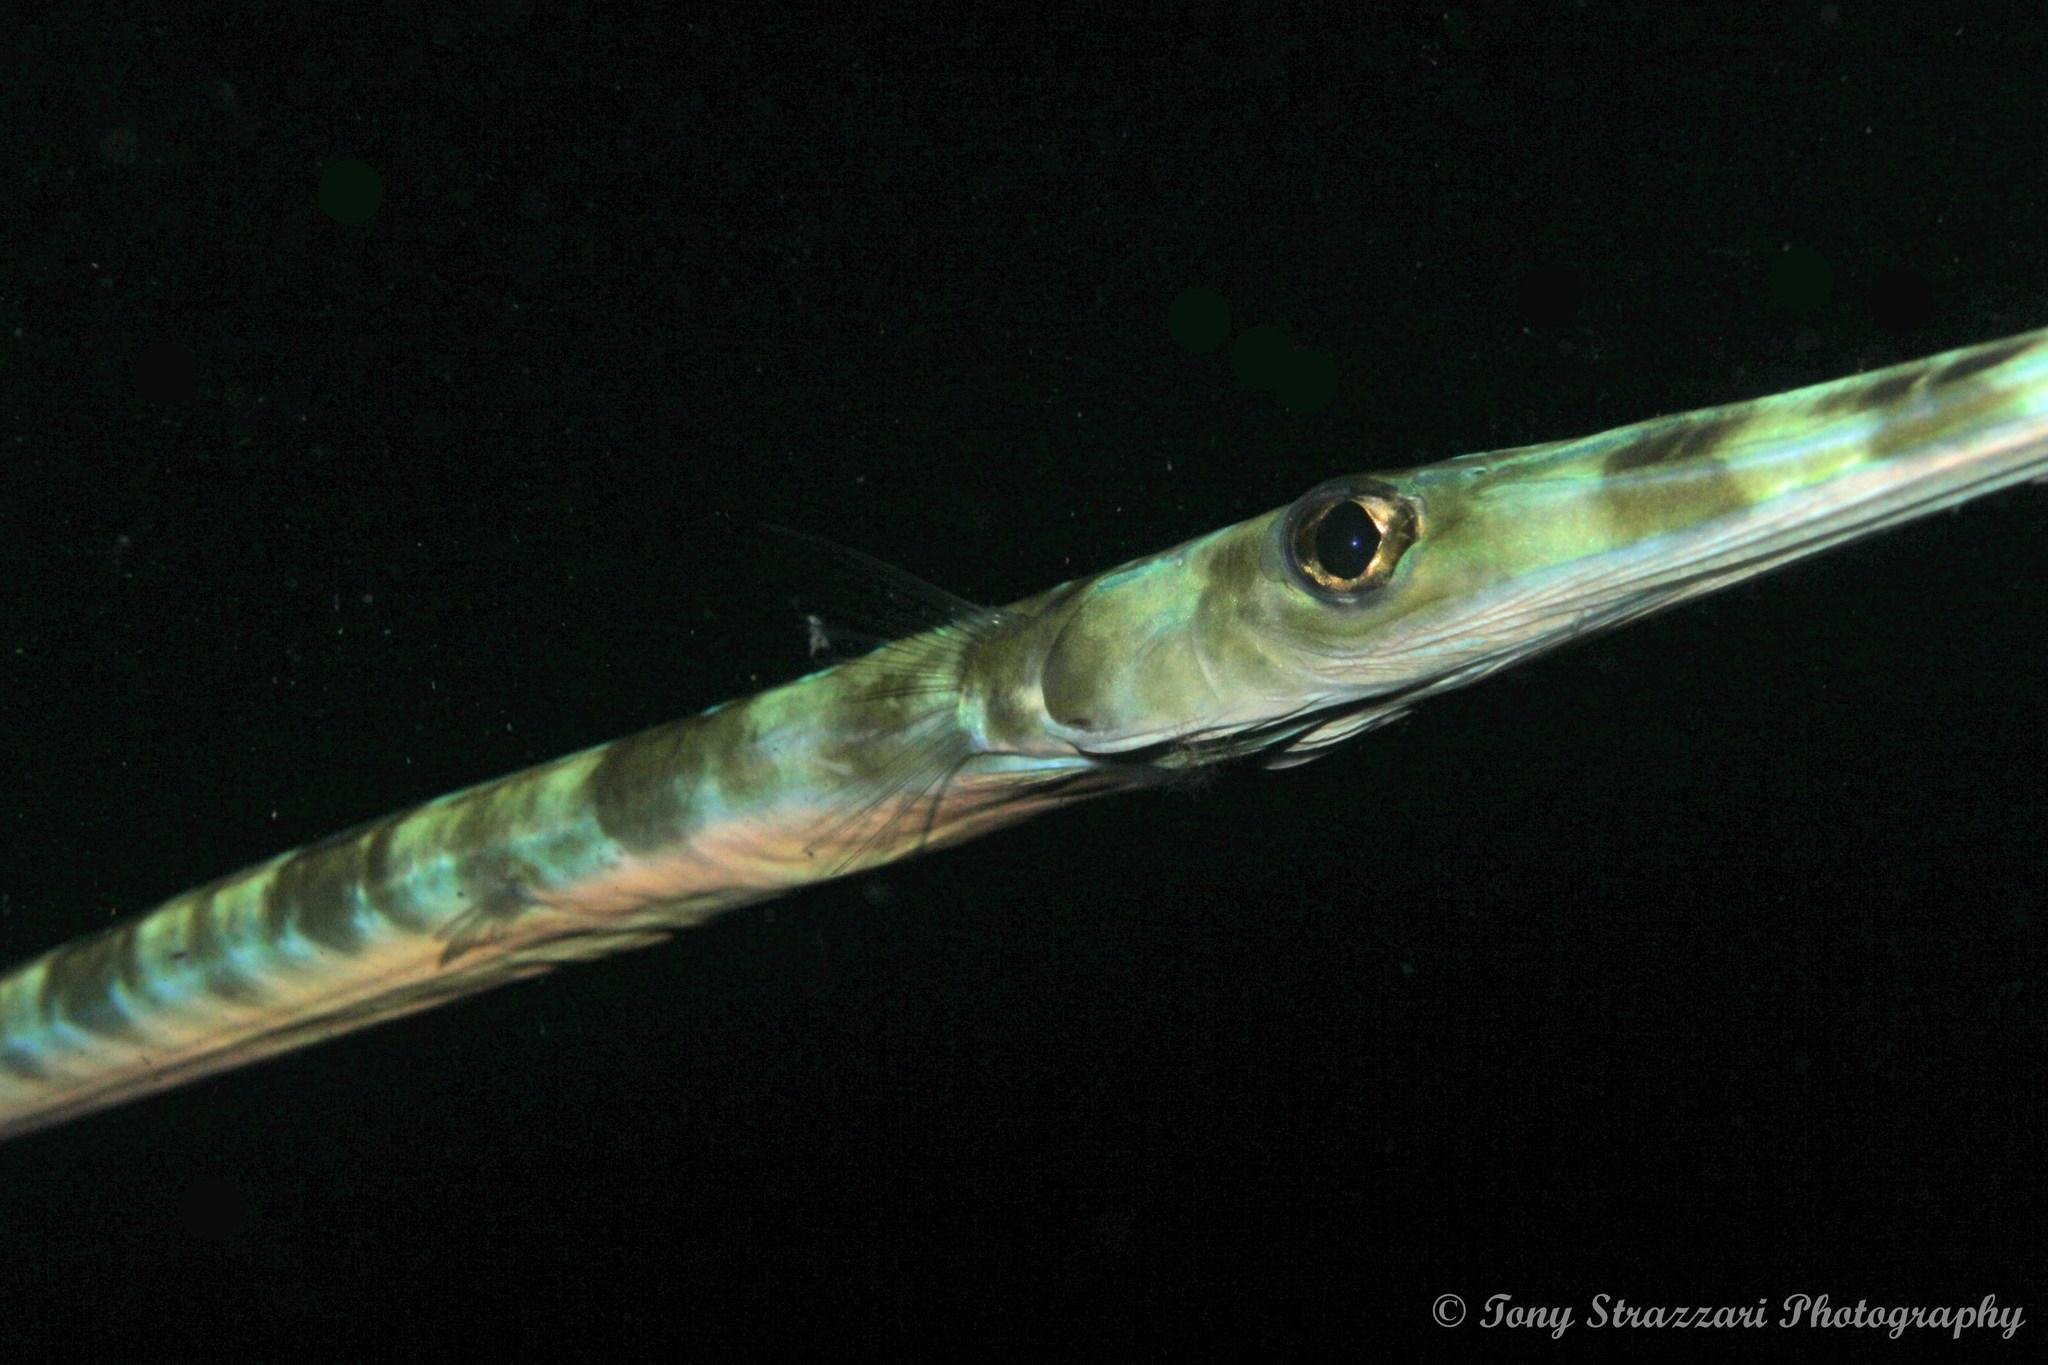Fistularia commersonii: (3, 321, 2043, 1141)
